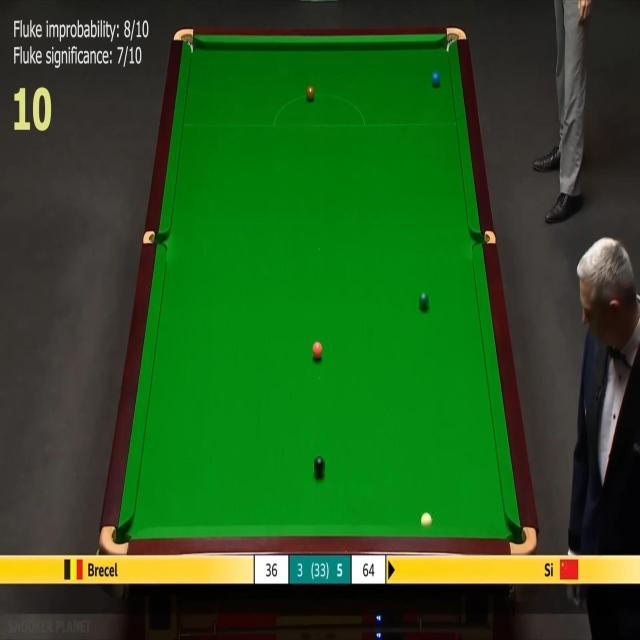Ball: (314, 456, 325, 476), (419, 292, 429, 309), (422, 512, 434, 526), (312, 342, 322, 358), (432, 71, 440, 86), (306, 86, 314, 100)
